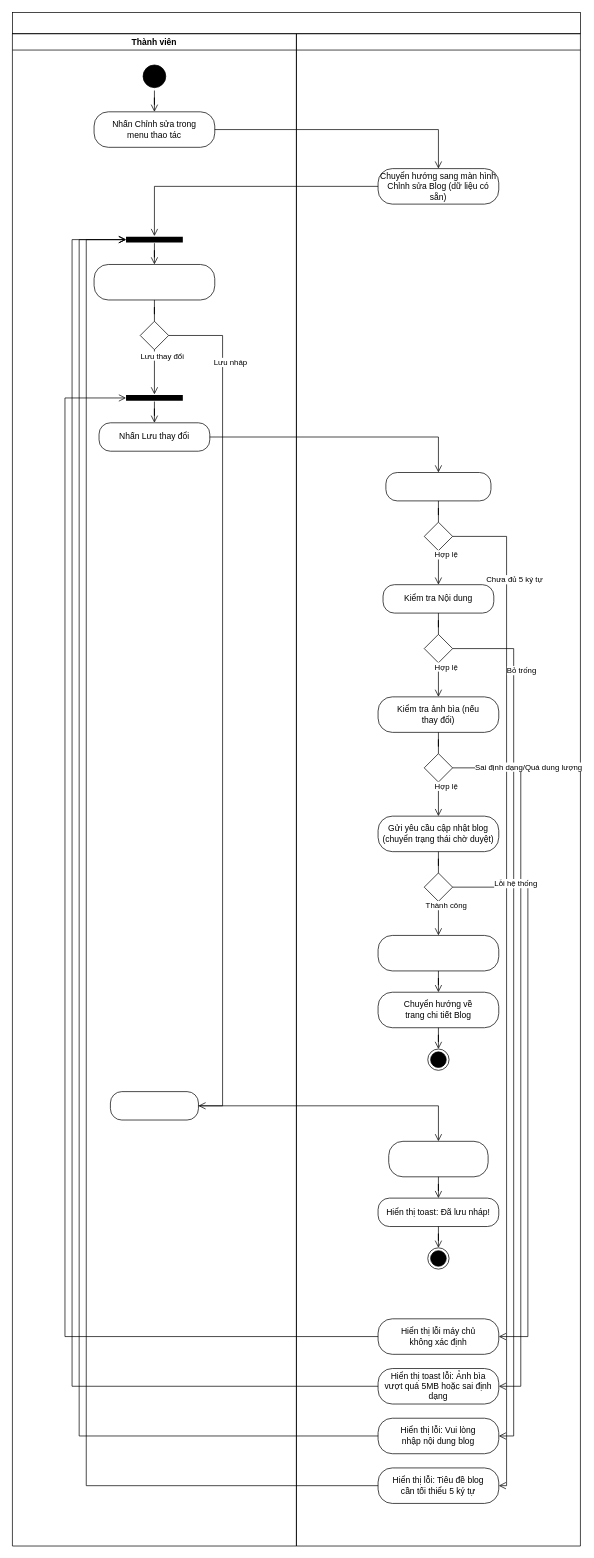
Some shapes in this 594 by 1558 pixel diagram are drawn without their labels. The box of each missing label's shape, as (x1, y1, x2, y2) in pixels:
CHỈNH SỬA BLOG: (12, 12, 580, 34)
Chỉnh sửa các trường: Tiêu đề, Nội dung, Tóm tắt, Ảnh bìa, Tag: (93, 264, 215, 300)
Hiển thị toast: Blog đã được gửi và đang chờ duyệt: (377, 935, 499, 971)
Hệ thống: (296, 33, 580, 1546)
Kiểm tra Tiêu đề: (385, 472, 491, 501)
Lưu blog với trạng thái Nháp: (388, 1141, 488, 1177)
Nhấn Lưu nháp: (110, 1091, 198, 1120)
